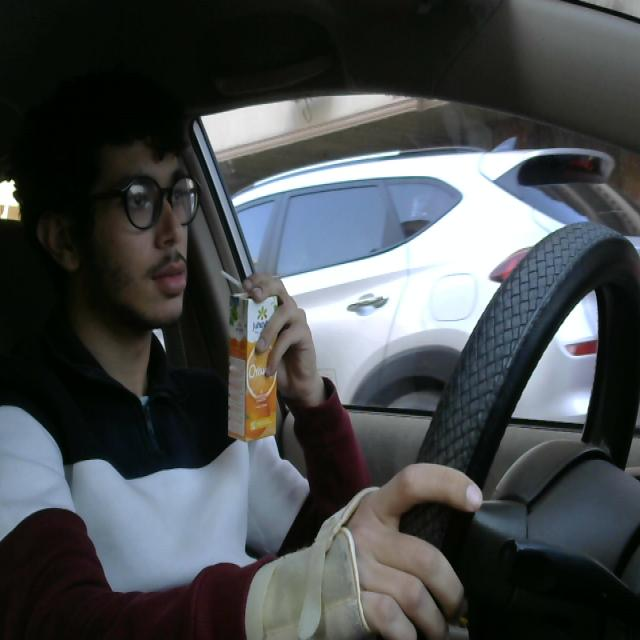drinking: (209, 258, 281, 442)
